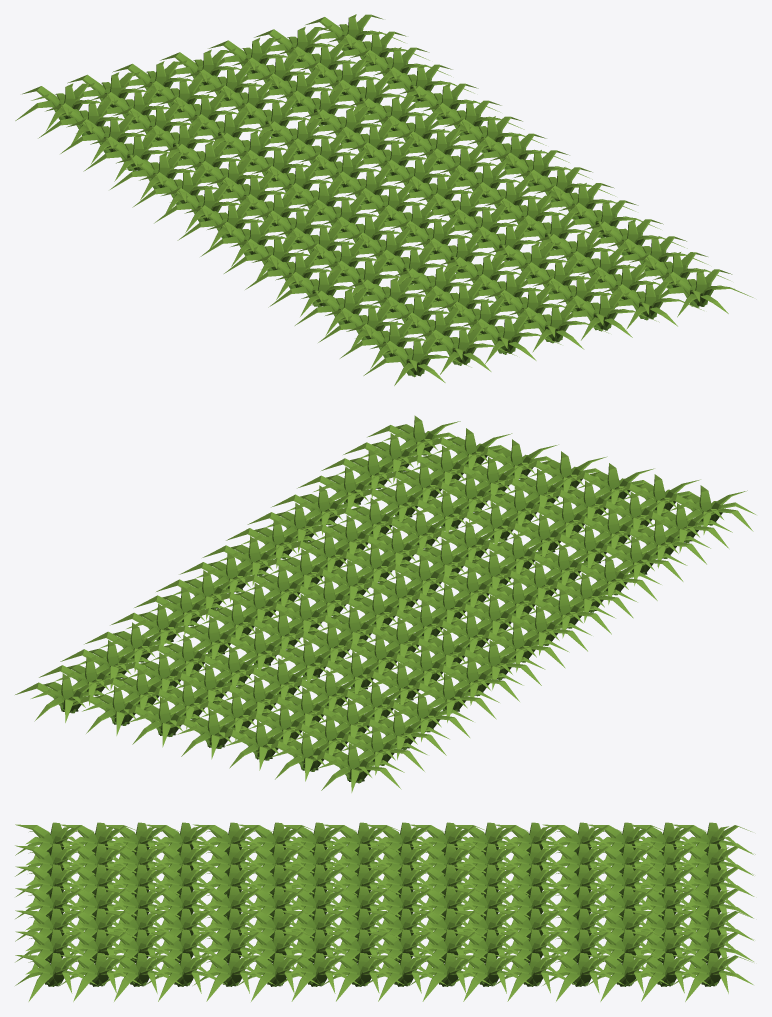
Rendered from joinedfullgrass.fbx.
3 renders of one model, top to bottom at view 1: azimuth 30°, elevation 25°; view 2: azimuth 150°, elevation 25°; view 3: azimuth 270°, elevation 25°, orthographic. The views are drawn at different scales.
Visible parts, largest first — view 1: Grass_bush_low_01.111; view 2: Grass_bush_low_01.111; view 3: Grass_bush_low_01.111.
Part boxes in pixels (x1,y1,x2,y2): Grass_bush_low_01.111: [15, 14, 753, 385]; Grass_bush_low_01.111: [15, 415, 755, 792]; Grass_bush_low_01.111: [15, 822, 755, 1001].
Bounding box in the file's own units: 777 × 48.89 × 1403.
112 materials, 112 textured.
